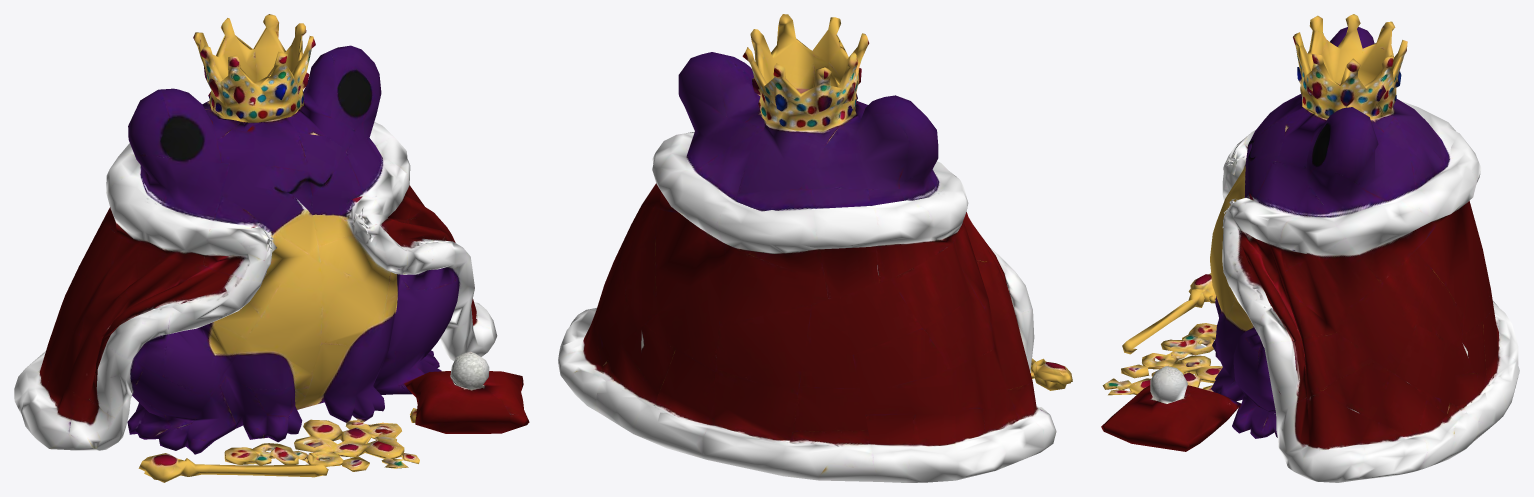
The model's file is reine.glb.
3 views of the same model, side by side, from view 1: azimuth 30°, elevation 25°; view 2: azimuth 150°, elevation 25°; view 3: azimuth 270°, elevation 25° (orthographic). The views are drawn at different scales.
Parts seen in each view (by area): view 1: mesh_node; view 2: mesh_node; view 3: mesh_node.
Boxes of the visible parts, <box> form: mesh_node: <box>14,14,529,482</box>; mesh_node: <box>558,14,1072,482</box>; mesh_node: <box>1101,14,1519,482</box>.
Size of the model in its own units: 1.89 by 1.41 by 1.55.
1 material, 1 textured.
